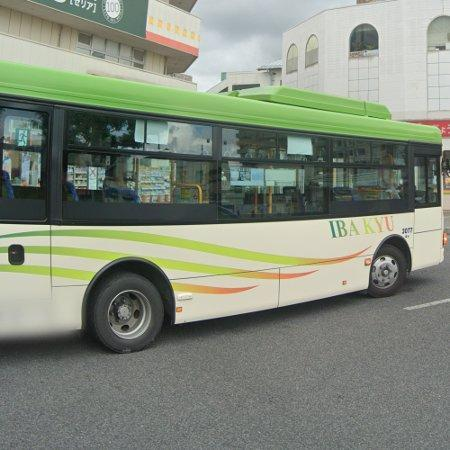buses: (0, 61, 445, 352)
